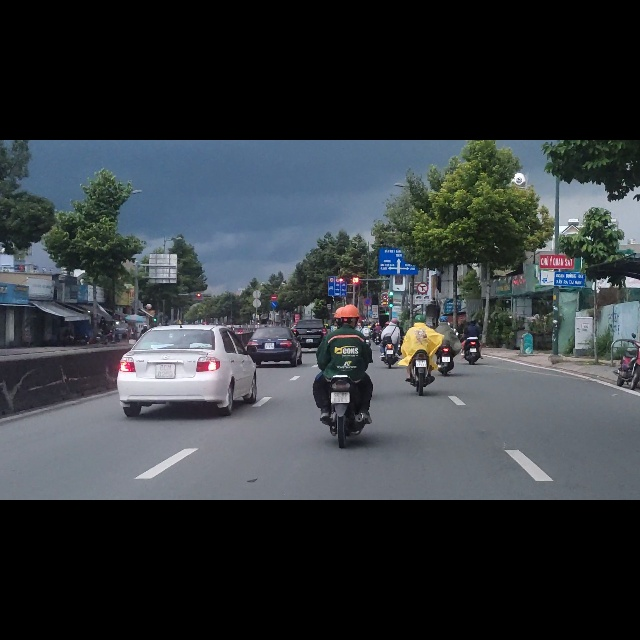bien_hieu_lenh: (328, 252, 347, 278), (417, 252, 429, 274), (364, 280, 371, 295), (271, 274, 278, 286), (271, 287, 278, 299)
